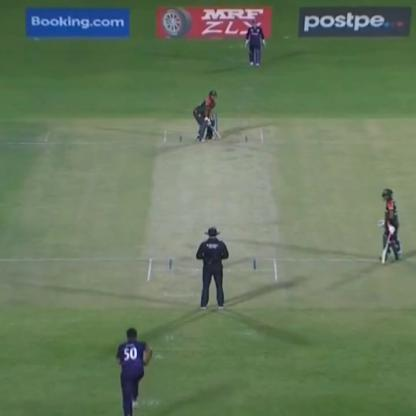bat: (199, 110, 224, 140), (380, 222, 393, 266)
pitch: (142, 122, 282, 295)
